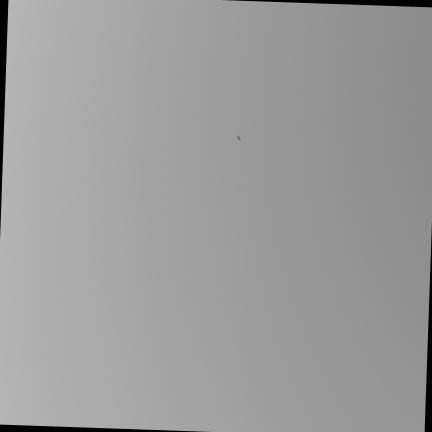Shahed: (235, 136, 240, 142)
